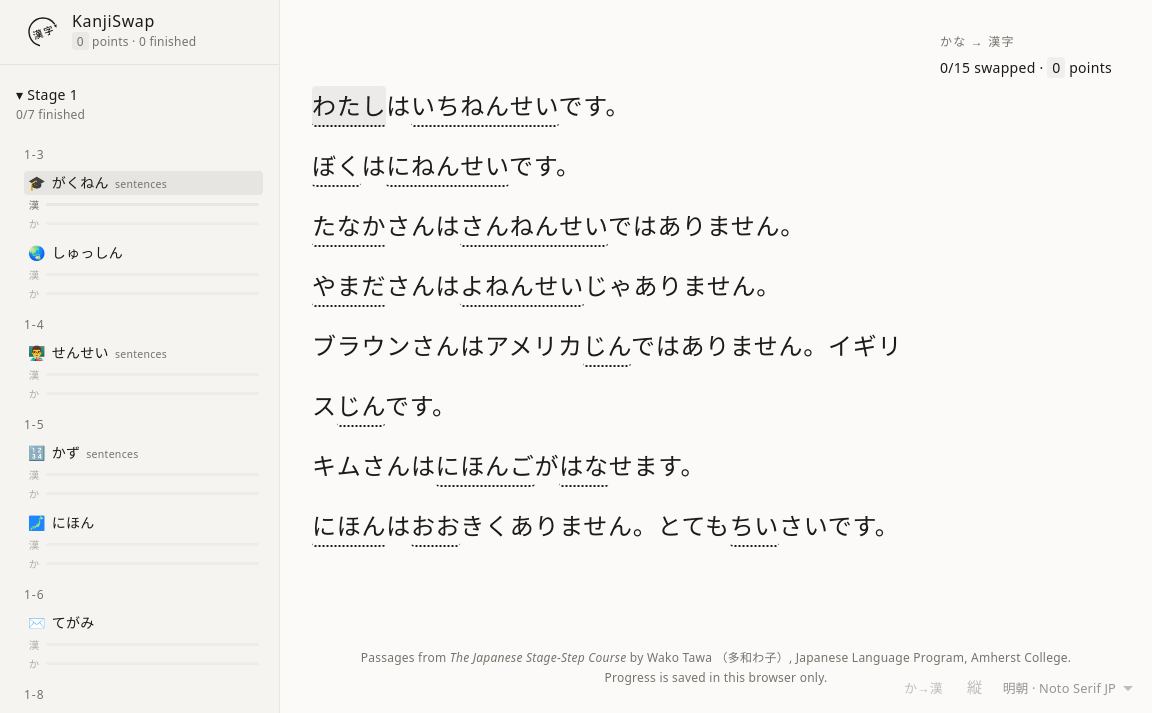
Test: the two directions › picking a bar opens that passage in that direction
Click the 2nd button "か".
click(144, 293)  # box [24,284,263,303]
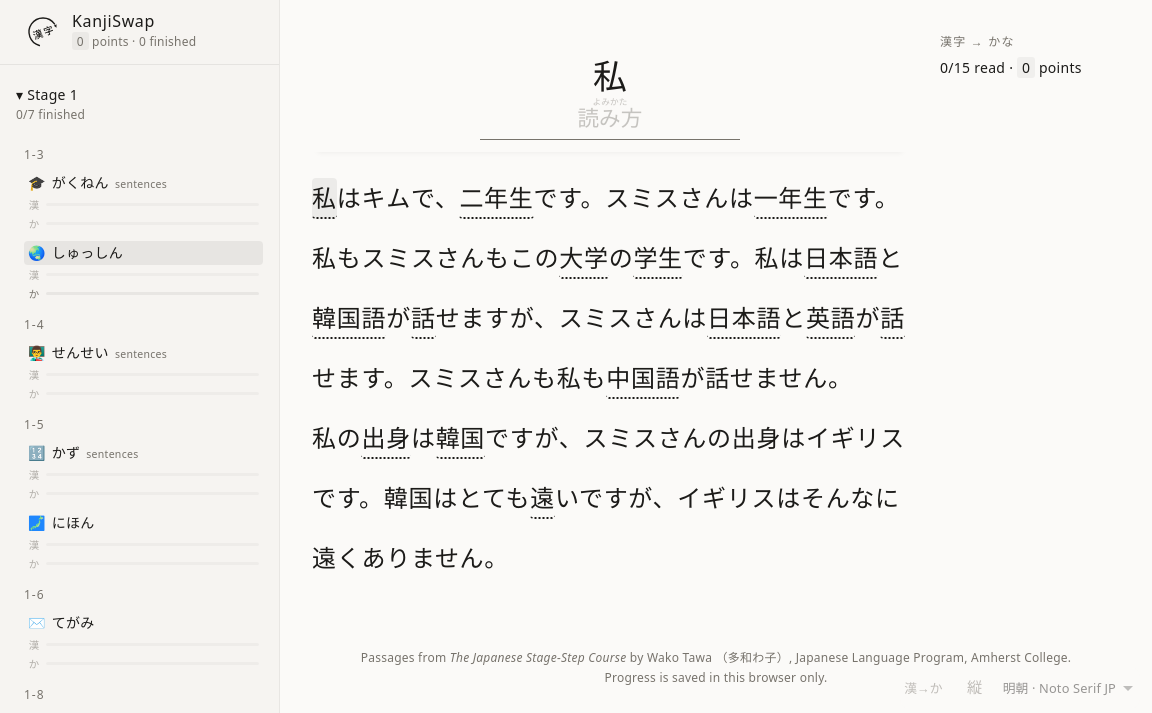
Result: the text "漢字 → かな" is shown at [940,33,1015,50]
